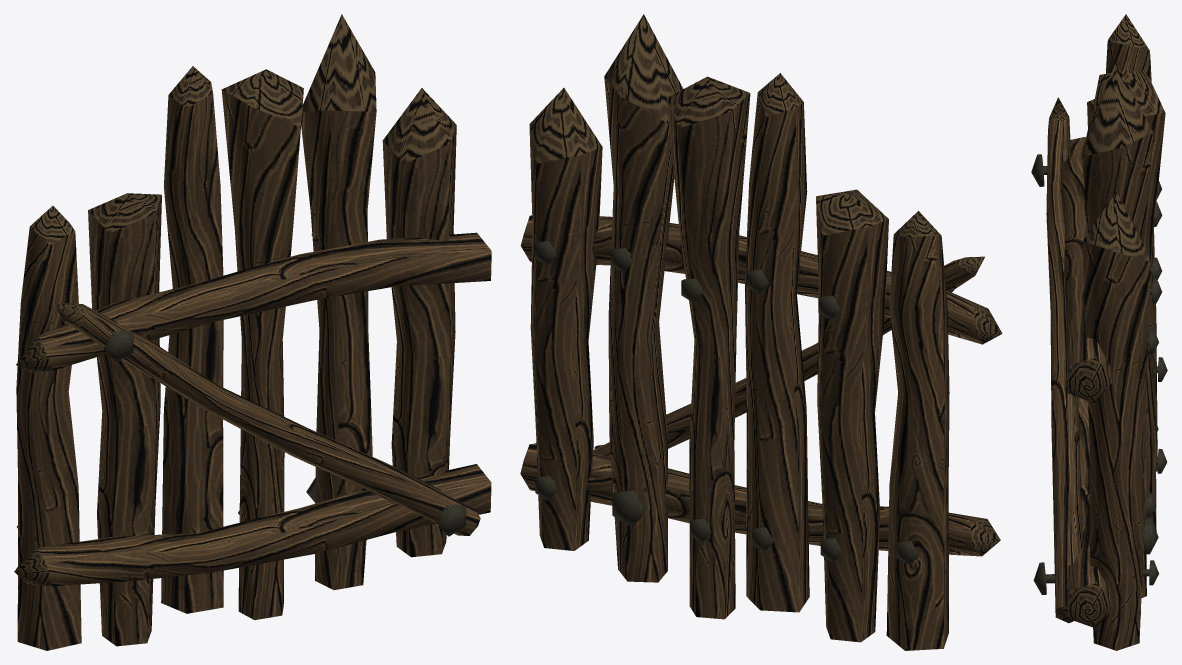
The model's file is WoodenFence.fbx.
The picture shows the model from 3 angles, left to right: view 1: azimuth 30°, elevation 25°; view 2: azimuth 150°, elevation 25°; view 3: azimuth 270°, elevation 25°; orthographic projection. The views are drawn at different scales.
Visible parts, largest first — view 1: node_id30; view 2: node_id30; view 3: node_id30.
Boxes of the visible parts, x1,y1,x2,y2 form: node_id30: (14, 14, 491, 650); node_id30: (520, 14, 1002, 650); node_id30: (1031, 14, 1167, 650).
Bounding box in the file's own units: 0.4365 × 0.5062 × 0.1103.
1 material, 1 textured.
